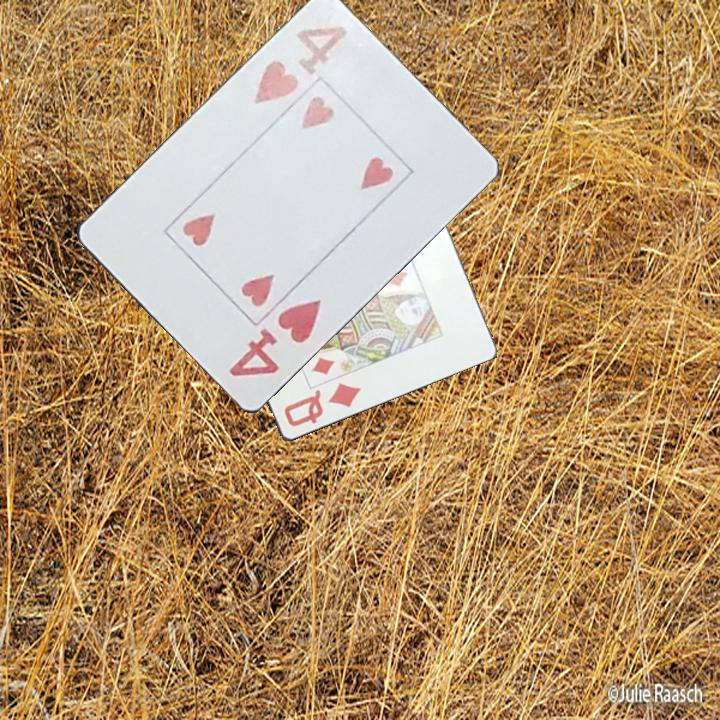4h: (250, 22, 351, 108), (224, 296, 326, 381)
Qd: (280, 379, 364, 430)
